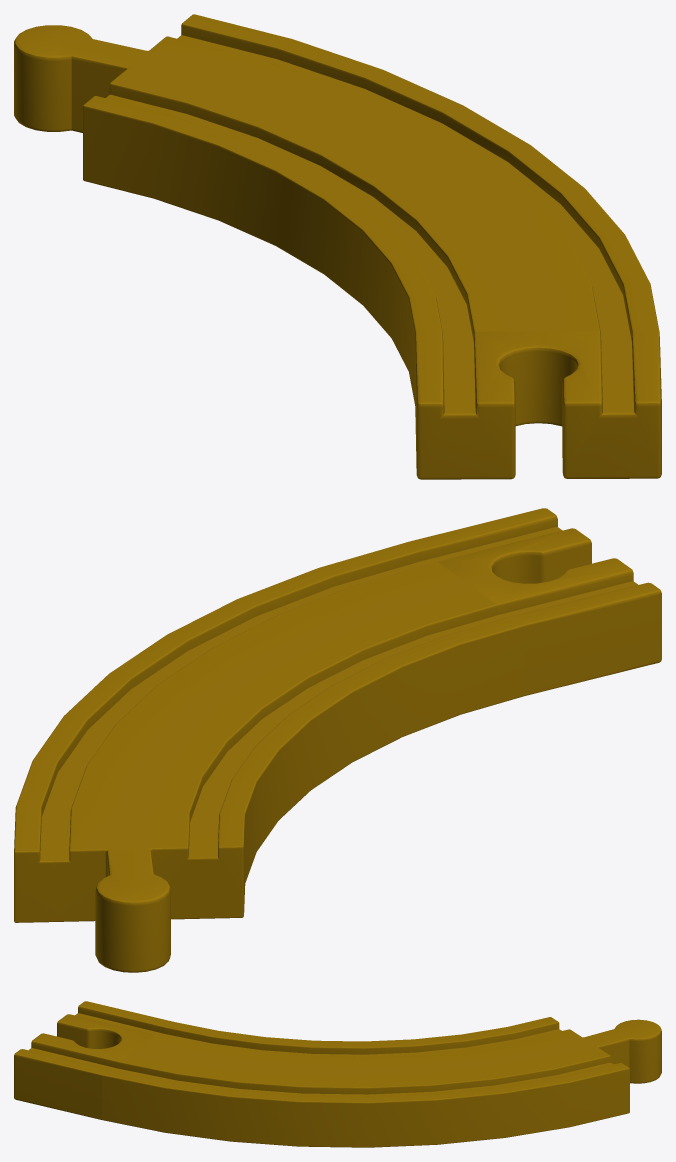
Rendered from Railway_bendL.fbx.
3 views of the same model, one above another, from view 1: azimuth 30°, elevation 25°; view 2: azimuth 150°, elevation 25°; view 3: azimuth 270°, elevation 25° (orthographic). The views are drawn at different scales.
Visible parts, largest first — view 1: Railway_bendL_new; view 2: Railway_bendL_new; view 3: Railway_bendL_new.
Part boxes in pixels (box(x1,y1,x2,y2)): Railway_bendL_new: box(14, 14, 661, 479); Railway_bendL_new: box(14, 508, 661, 972); Railway_bendL_new: box(14, 1001, 661, 1147).
Size of the model in its own units: 119 by 25.37 by 319.
